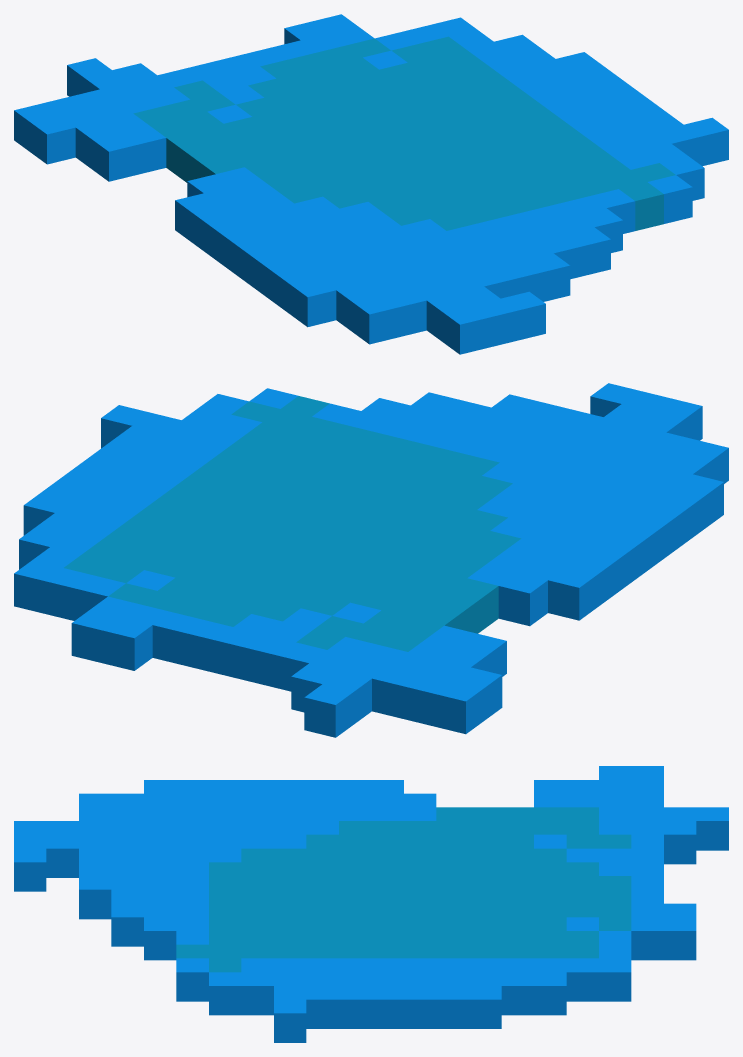
Rendered from map_v1-11.obj.
The picture shows the model from 3 angles, top to bottom: view 1: azimuth 30°, elevation 25°; view 2: azimuth 150°, elevation 25°; view 3: azimuth 270°, elevation 25°; orthographic projection. The views are drawn at different scales.
Bounding box in the file's own units: 1.8 × 0.1 × 2.2.
Materials: 1 (1 with a texture image).
